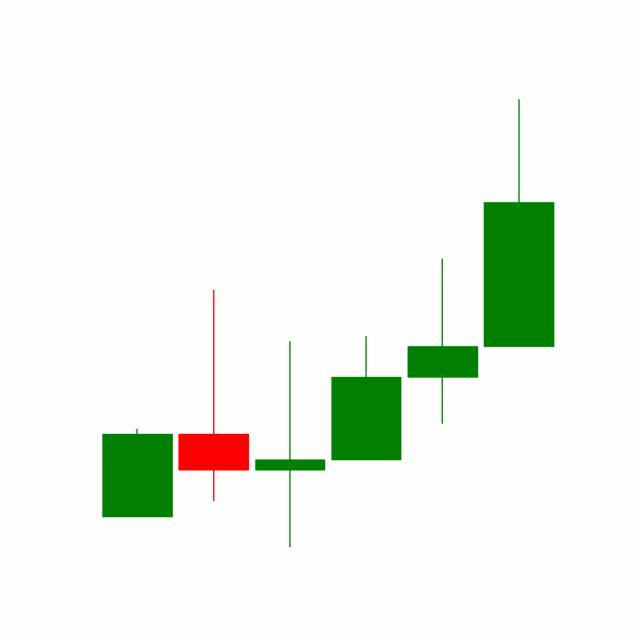Spinning Top: (404, 258, 482, 427)
